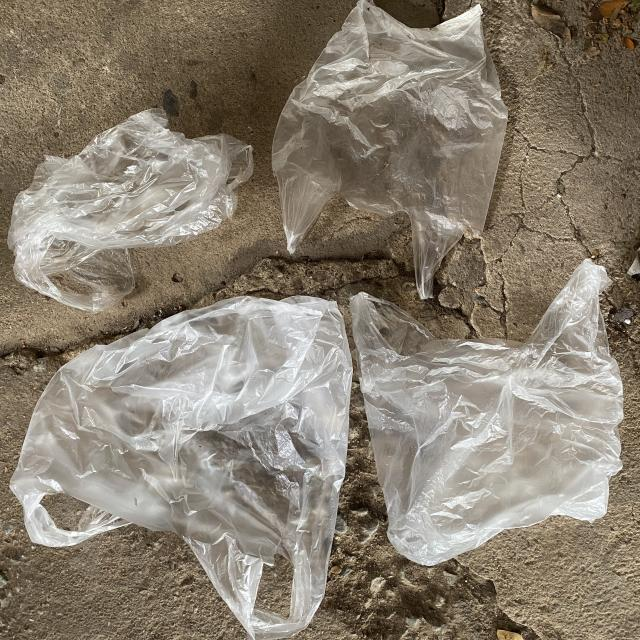Single-layer Plastic: (10, 296, 352, 640), (350, 259, 624, 565), (272, 0, 508, 299), (8, 109, 252, 312)
